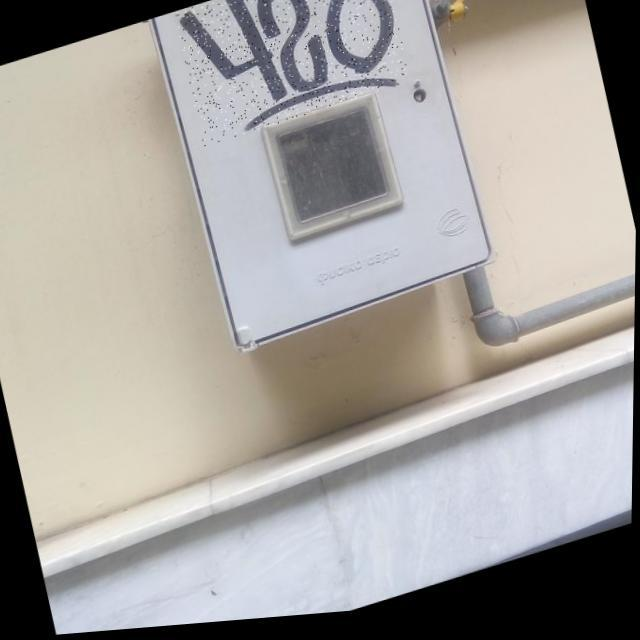-: (172, 0, 412, 151)
